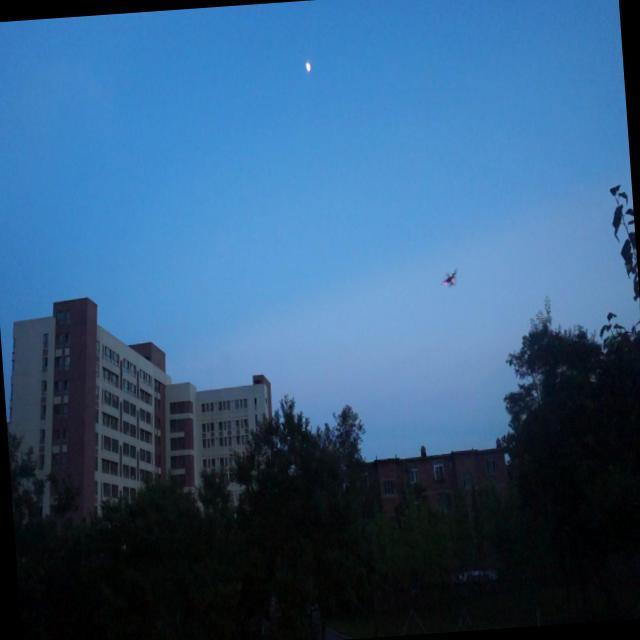drone: (438, 266, 461, 290)
